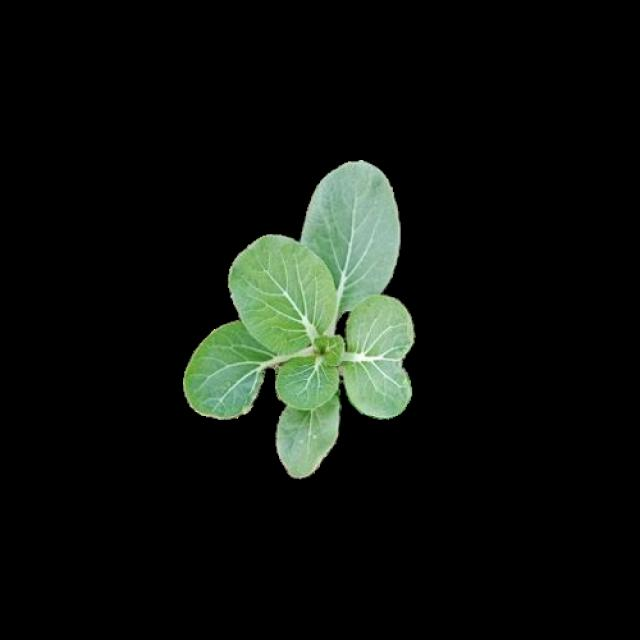healthy: (182, 159, 412, 475)
not-mature: (184, 162, 415, 478)
